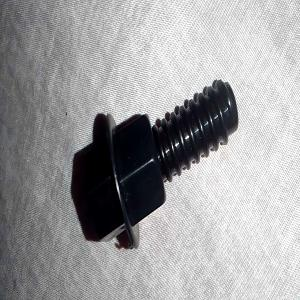parafuso: (70, 79, 238, 248)
